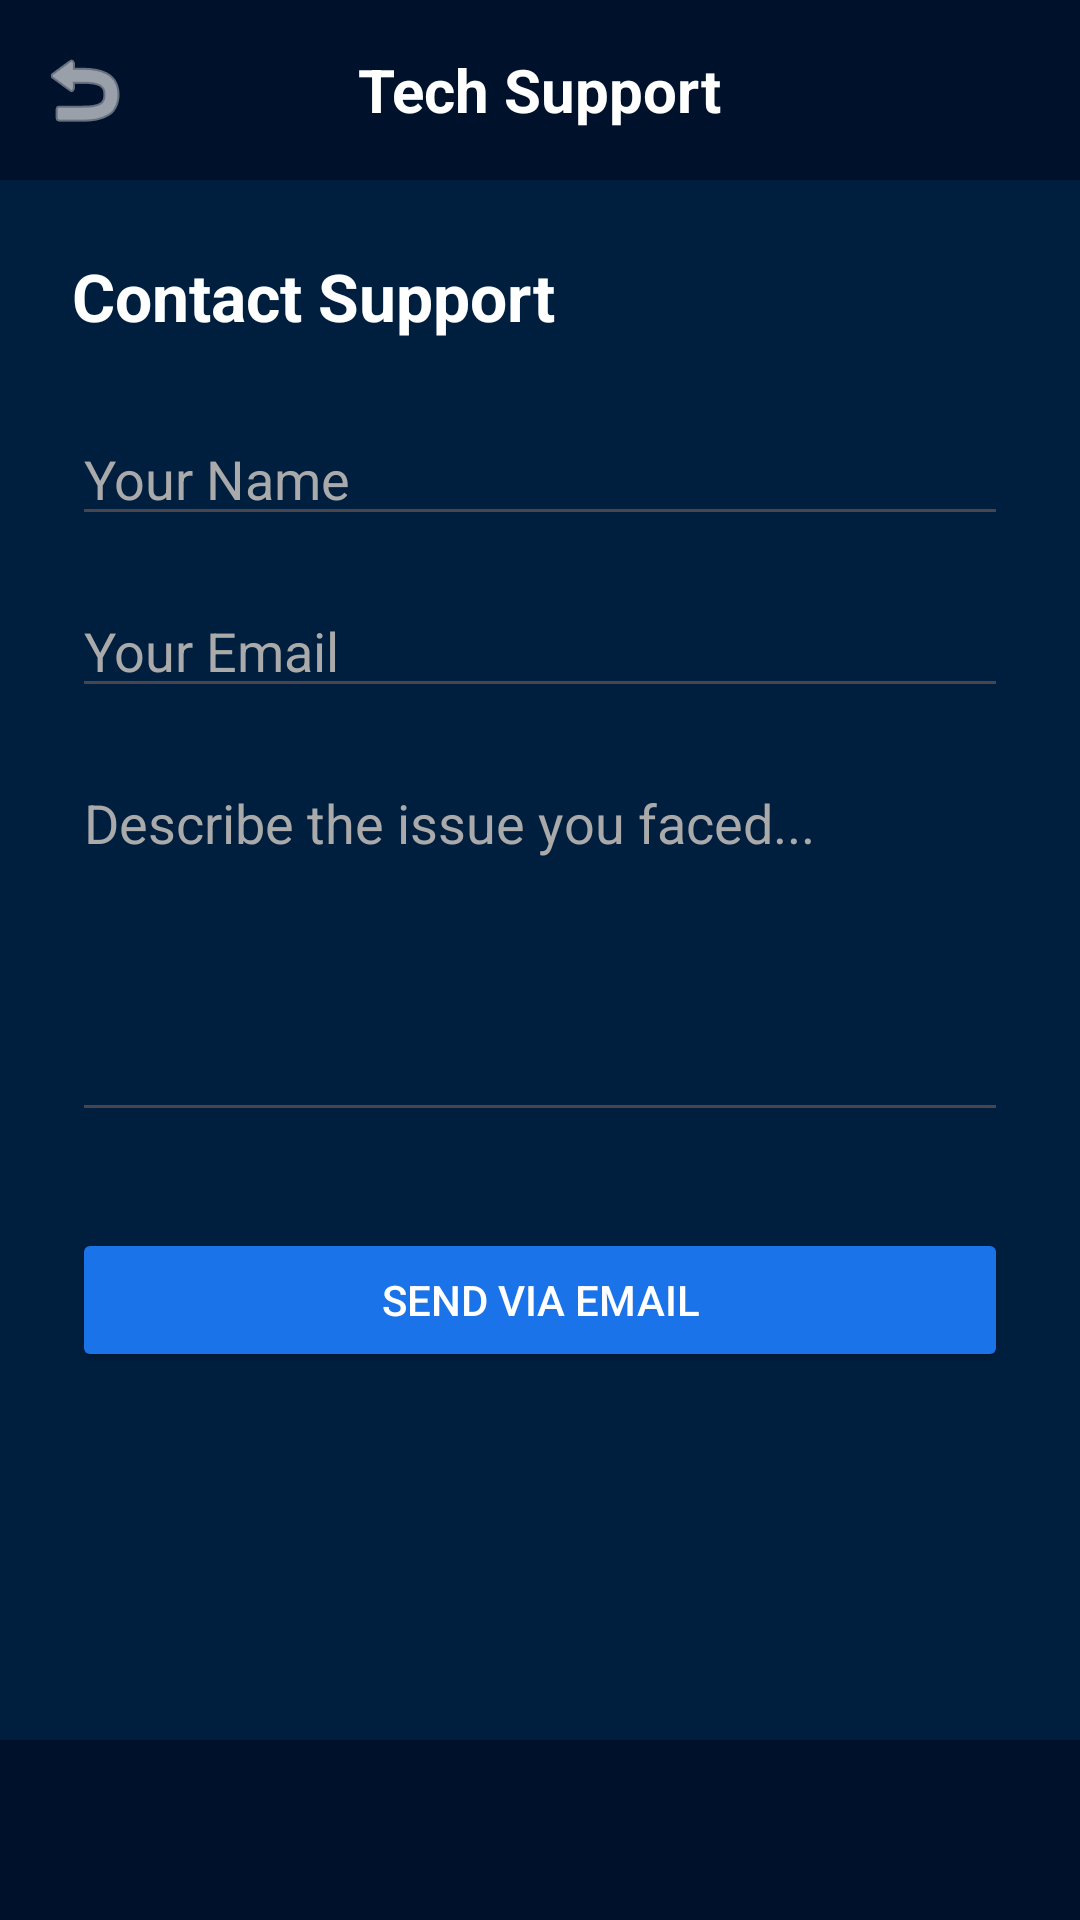

Screen size 1080px x 1920px. Icon name, then its box in pixels as box(x1, y1, x2, y2):
Back: box(51, 59, 120, 122)
